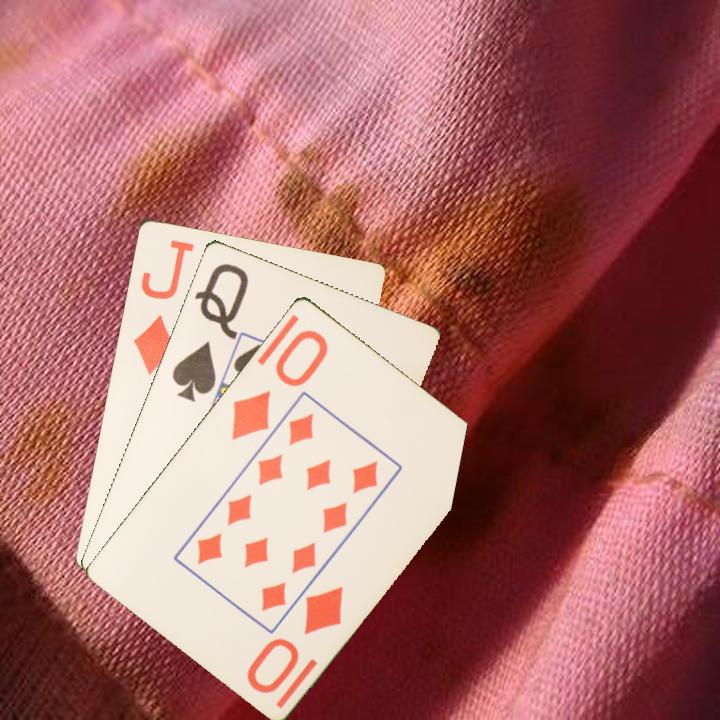10d: (227, 325, 331, 442), (242, 582, 347, 697)
Jd: (129, 235, 197, 377)
Qs: (168, 259, 252, 404)
